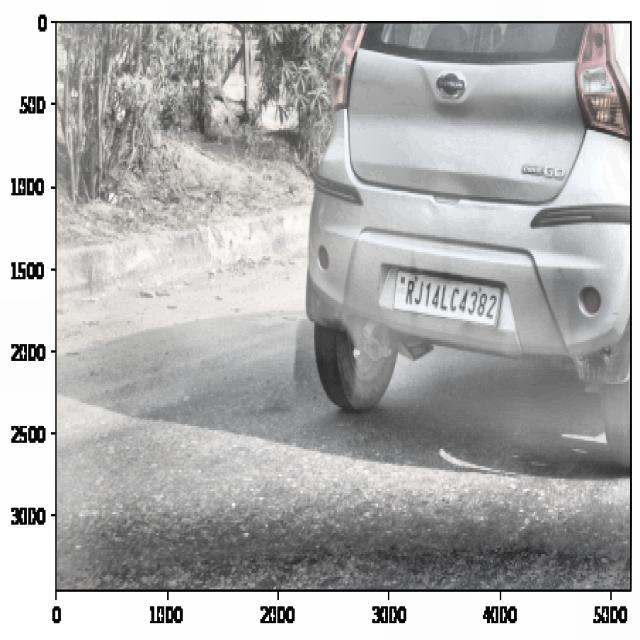license_plate: (402, 273, 504, 329)
